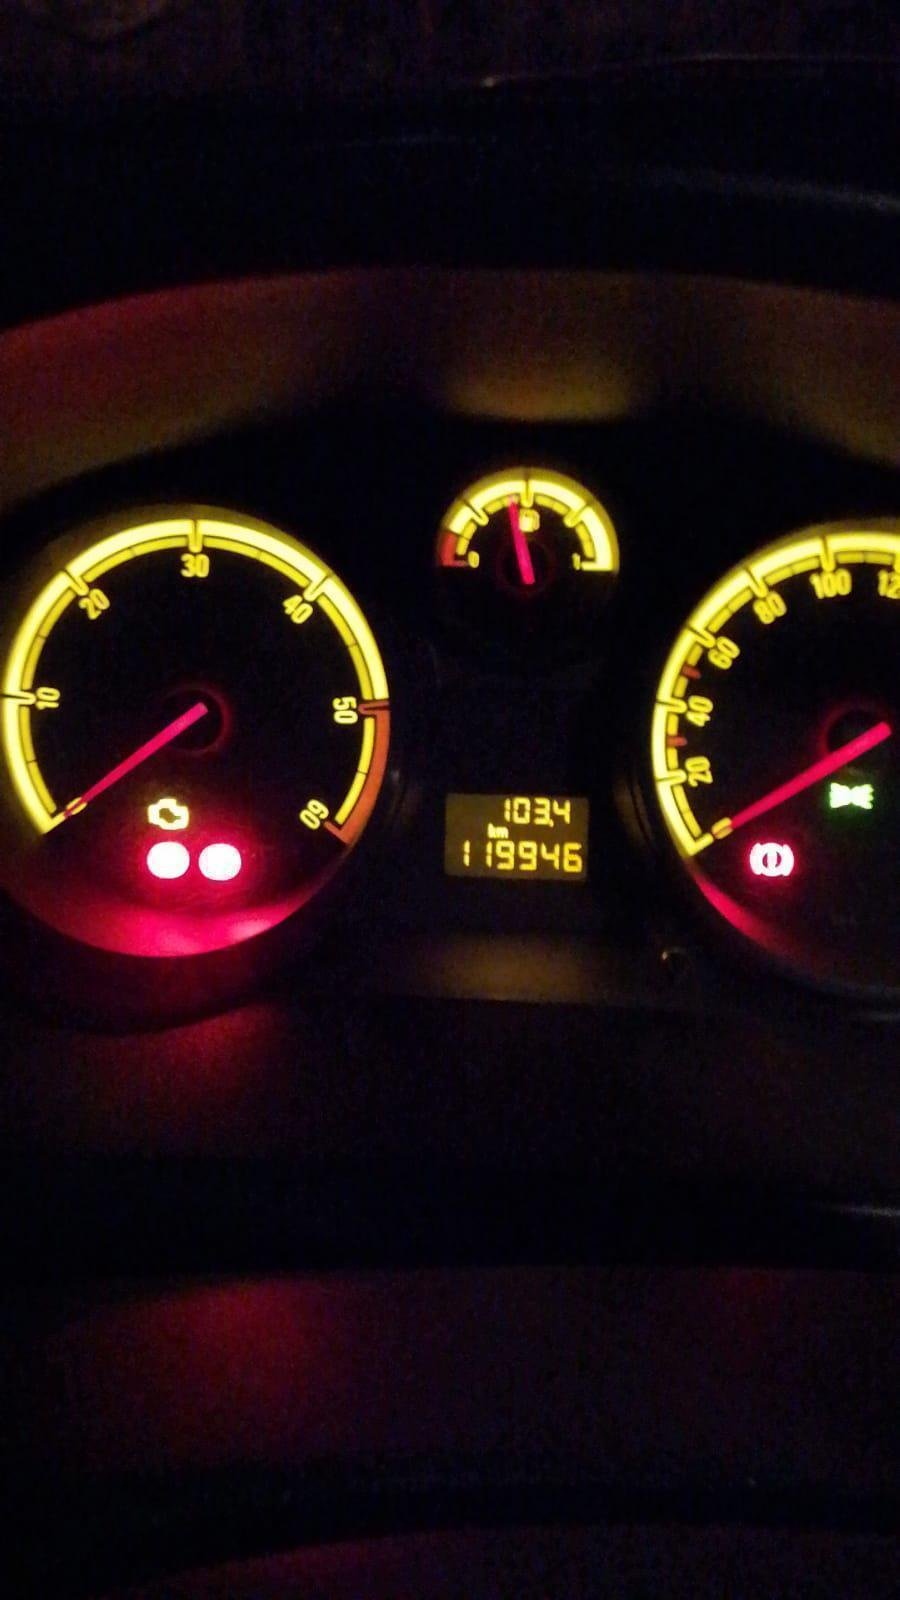,: (548, 818, 554, 827)
0: (511, 796, 531, 825)
1: (484, 840, 493, 869), (462, 838, 471, 867), (502, 797, 511, 823)
3: (533, 797, 549, 825)
4: (538, 841, 560, 870), (552, 798, 571, 825)
6: (562, 841, 584, 873)
9: (516, 838, 537, 871), (495, 840, 515, 870)
X: (495, 825, 509, 838), (486, 822, 495, 838)
odometer: (440, 790, 592, 885)
